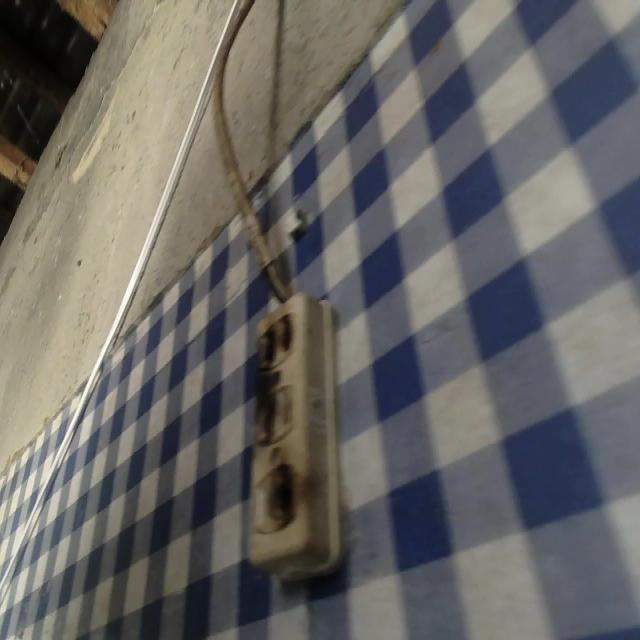-: (257, 309, 295, 368), (271, 464, 294, 528), (253, 389, 277, 447)
